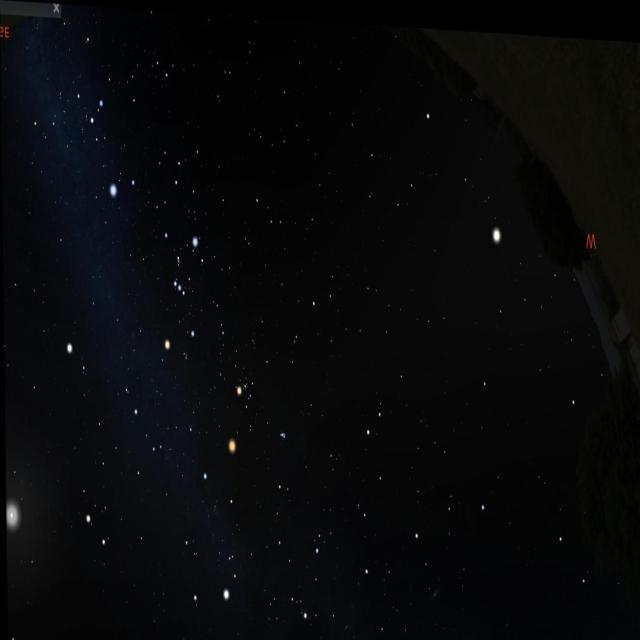canis_major: (80, 89, 140, 206)
canis_minor: (64, 333, 88, 383)
gemini: (79, 390, 171, 576)
moon: (5, 491, 28, 543)
orion: (149, 211, 205, 359)
pleiades: (268, 416, 296, 444)
taurus: (224, 349, 288, 469)
